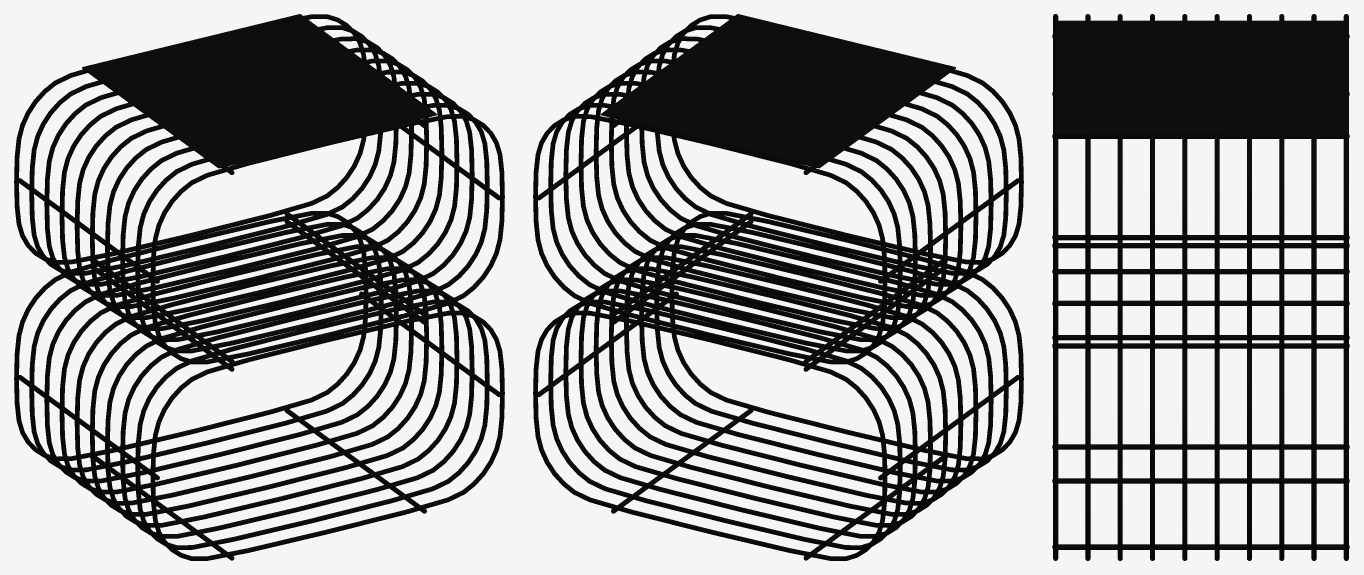
Rendered from kleiner-Tisch-AR.glb.
3 views of the same model, side by side, from view 1: azimuth 30°, elevation 25°; view 2: azimuth 150°, elevation 25°; view 3: azimuth 270°, elevation 25° (orthographic). The views are drawn at different scales.
Parts seen in each view (by area): view 1: Tischunten, Tischoben, Platte, Stange.001, Stange.006, Stange, Stange.005, Stange.007, Stange.011, Stange.008, Stange.004; view 2: Tischunten, Tischoben, Platte, Stange.001, Stange.006, Stange, Stange.005, Stange.007, Stange.011, Stange.008, Stange.004; view 3: Platte, Tischoben, Tischunten, Stange.001, Stange.003, Stange.004, Stange.005, Stange.002, Stange.006, Stange.007, Stange.008, Stange.011 (+1 smaller).
Part boxes in pixels (x1=…): Tischunten: x1=14, y1=211, x2=504, y2=560; Tischoben: x1=14, y1=14, x2=504, y2=364; Platte: x1=82, y1=14, x2=436, y2=168; Stange.001: x1=359, y1=291, x2=501, y2=396; Stange.006: x1=19, y1=375, x2=159, y2=480; Stange: x1=19, y1=178, x2=159, y2=283; Stange.005: x1=284, y1=409, x2=426, y2=513; Stange.007: x1=284, y1=212, x2=426, y2=316; Stange.011: x1=400, y1=127, x2=501, y2=200; Stange.008: x1=95, y1=259, x2=234, y2=363; Stange.004: x1=95, y1=456, x2=234, y2=560; Tischunten: x1=533, y1=211, x2=1023, y2=560; Tischoben: x1=533, y1=14, x2=1023, y2=364; Platte: x1=601, y1=14, x2=955, y2=168; Stange.001: x1=536, y1=291, x2=678, y2=396; Stange.006: x1=878, y1=375, x2=1018, y2=480; Stange: x1=878, y1=178, x2=1018, y2=283; Stange.005: x1=611, y1=409, x2=753, y2=513; Stange.007: x1=611, y1=212, x2=753, y2=316; Stange.011: x1=536, y1=127, x2=637, y2=200; Stange.008: x1=803, y1=259, x2=942, y2=363; Stange.004: x1=803, y1=456, x2=942, y2=560; Platte: x1=1055, y1=20, x2=1346, y2=135; Tischoben: x1=1053, y1=14, x2=1348, y2=351; Tischunten: x1=1053, y1=349, x2=1348, y2=560; Stange.001: x1=1052, y1=478, x2=1349, y2=483; Stange.003: x1=1052, y1=343, x2=1349, y2=348; Stange.004: x1=1052, y1=444, x2=1349, y2=449; Stange.005: x1=1052, y1=544, x2=1349, y2=549; Stange.002: x1=1052, y1=243, x2=1349, y2=248; Stange.006: x1=1052, y1=300, x2=1349, y2=305; Stange.007: x1=1052, y1=335, x2=1349, y2=340; Stange.008: x1=1052, y1=235, x2=1349, y2=240; Stange.011: x1=1052, y1=269, x2=1349, y2=274.
Bounding box in the file's own units: 0.4043 × 0.4328 × 0.2761.
2 materials, 1 textured.
